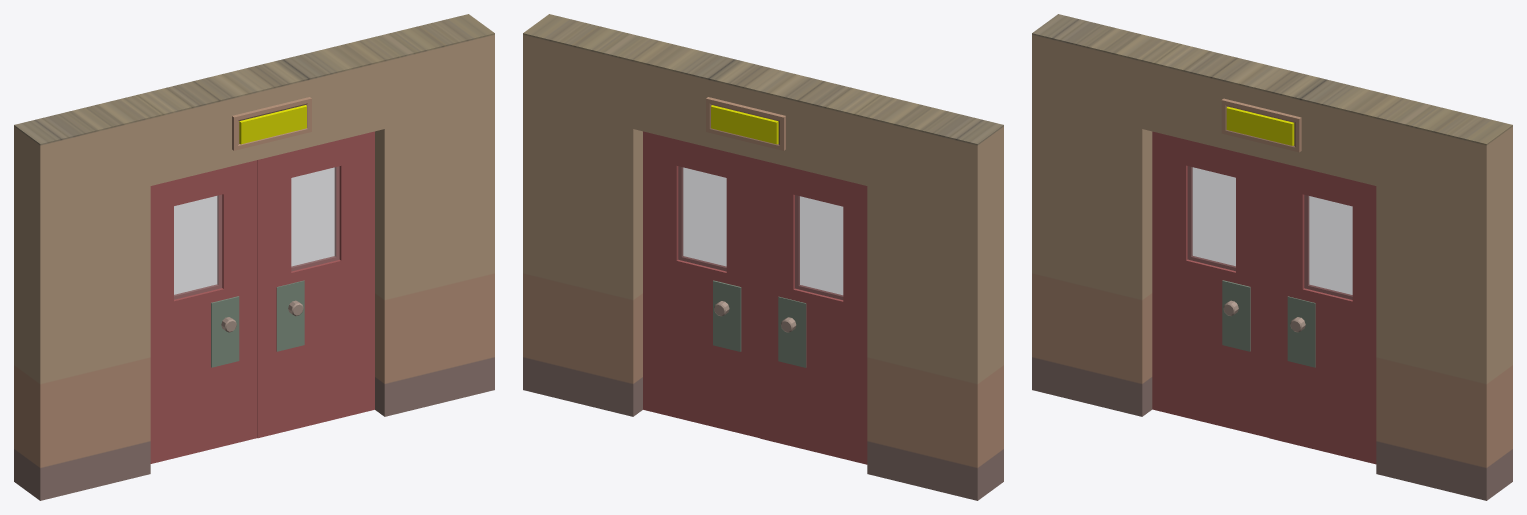
The model's file is Wall_Door01.fbx.
The picture shows the model from 3 angles, left to right: view 1: azimuth 30°, elevation 25°; view 2: azimuth 150°, elevation 25°; view 3: azimuth 330°, elevation 25°; orthographic projection.
Visible parts, largest first — view 1: Wall, Door01, Door02; view 2: Wall, Door01, Door02; view 3: Wall, Door02, Door01.
Part boxes in pixels (x1=…): Wall: x1=14, y1=14, x2=494, y2=500; Door01: x1=257, y1=131, x2=374, y2=438; Door02: x1=150, y1=160, x2=257, y2=463; Wall: x1=523, y1=14, x2=1003, y2=500; Door01: x1=643, y1=131, x2=759, y2=438; Door02: x1=760, y1=160, x2=867, y2=464; Wall: x1=1032, y1=14, x2=1512, y2=500; Door02: x1=1152, y1=131, x2=1269, y2=437; Door01: x1=1269, y1=160, x2=1376, y2=464.
Size of the model in its own units: 4 by 3 by 0.4973.
